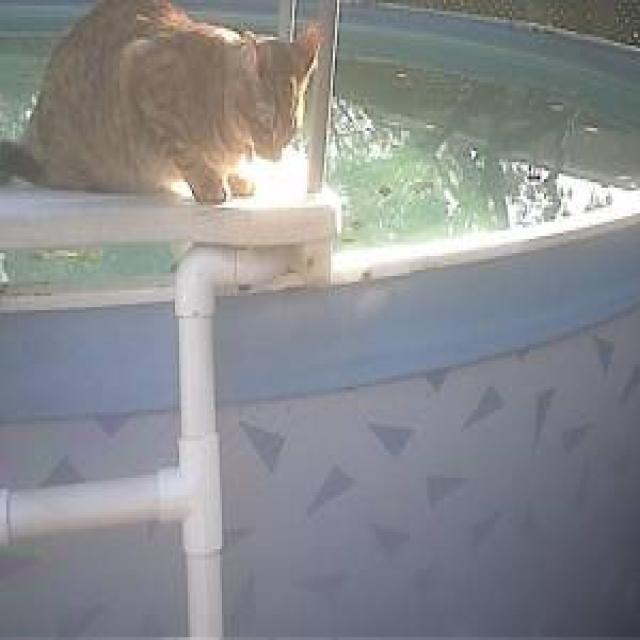Bengal: (230, 17, 320, 159)
